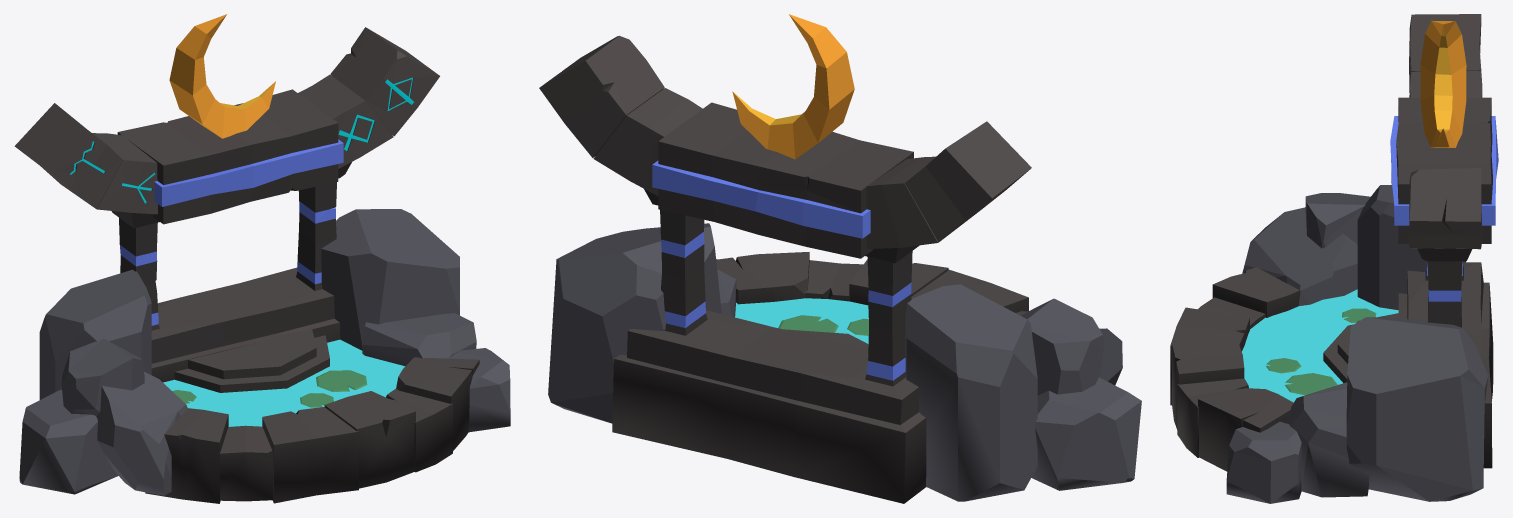
File: TempleMoon_01.glb
3 renders of one model, left to right at view 1: azimuth 30°, elevation 25°; view 2: azimuth 150°, elevation 25°; view 3: azimuth 270°, elevation 25°, orthographic. The views are drawn at different scales.
Visible parts, largest first — view 1: TempleMoon_01; view 2: TempleMoon_01; view 3: TempleMoon_01.
Boxes of the visible parts, bbox=[...] form: TempleMoon_01: bbox=[14, 14, 510, 503]; TempleMoon_01: bbox=[539, 14, 1141, 503]; TempleMoon_01: bbox=[1170, 14, 1498, 503].
Size of what is drawn, in the model's own units: 6.24 by 4.99 by 3.88.
Materials: 1 (1 with a texture image).
